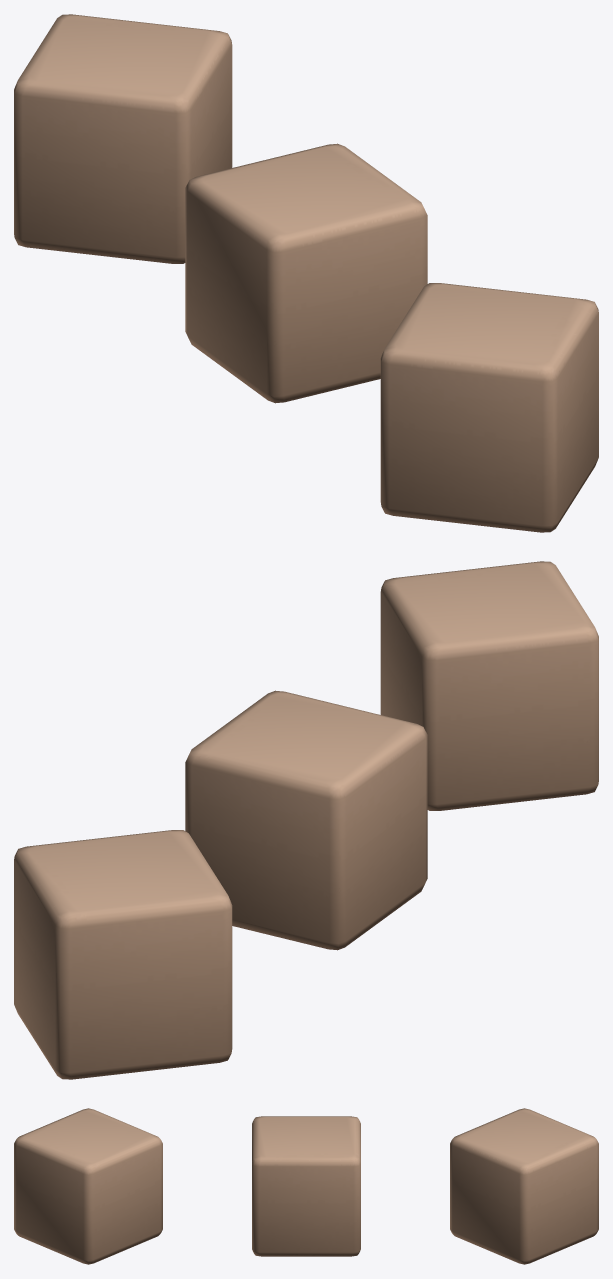
The model's file is Props.fbx.
3 views of the same model, one above another, from view 1: azimuth 30°, elevation 25°; view 2: azimuth 150°, elevation 25°; view 3: azimuth 270°, elevation 25° (orthographic). The views are drawn at different scales.
Visible parts, largest first — view 1: Box1-5, Box1-5 (1), Box1-5 (2); view 2: Box1-5, Box1-5 (2), Box1-5 (1); view 3: Box1-5 (1), Box1-5 (2), Box1-5.
Boxes of the visible parts, x1,y1,x2,y2 form: Box1-5: [185, 143, 427, 403]; Box1-5 (1): [380, 283, 598, 532]; Box1-5 (2): [14, 14, 232, 263]; Box1-5: [185, 690, 427, 950]; Box1-5 (2): [14, 830, 232, 1079]; Box1-5 (1): [380, 561, 598, 810]; Box1-5 (1): [14, 1108, 162, 1264]; Box1-5 (2): [450, 1108, 598, 1264]; Box1-5: [252, 1116, 360, 1256].
Size of the model in its own units: 2.05 by 1.5 by 8.05.
